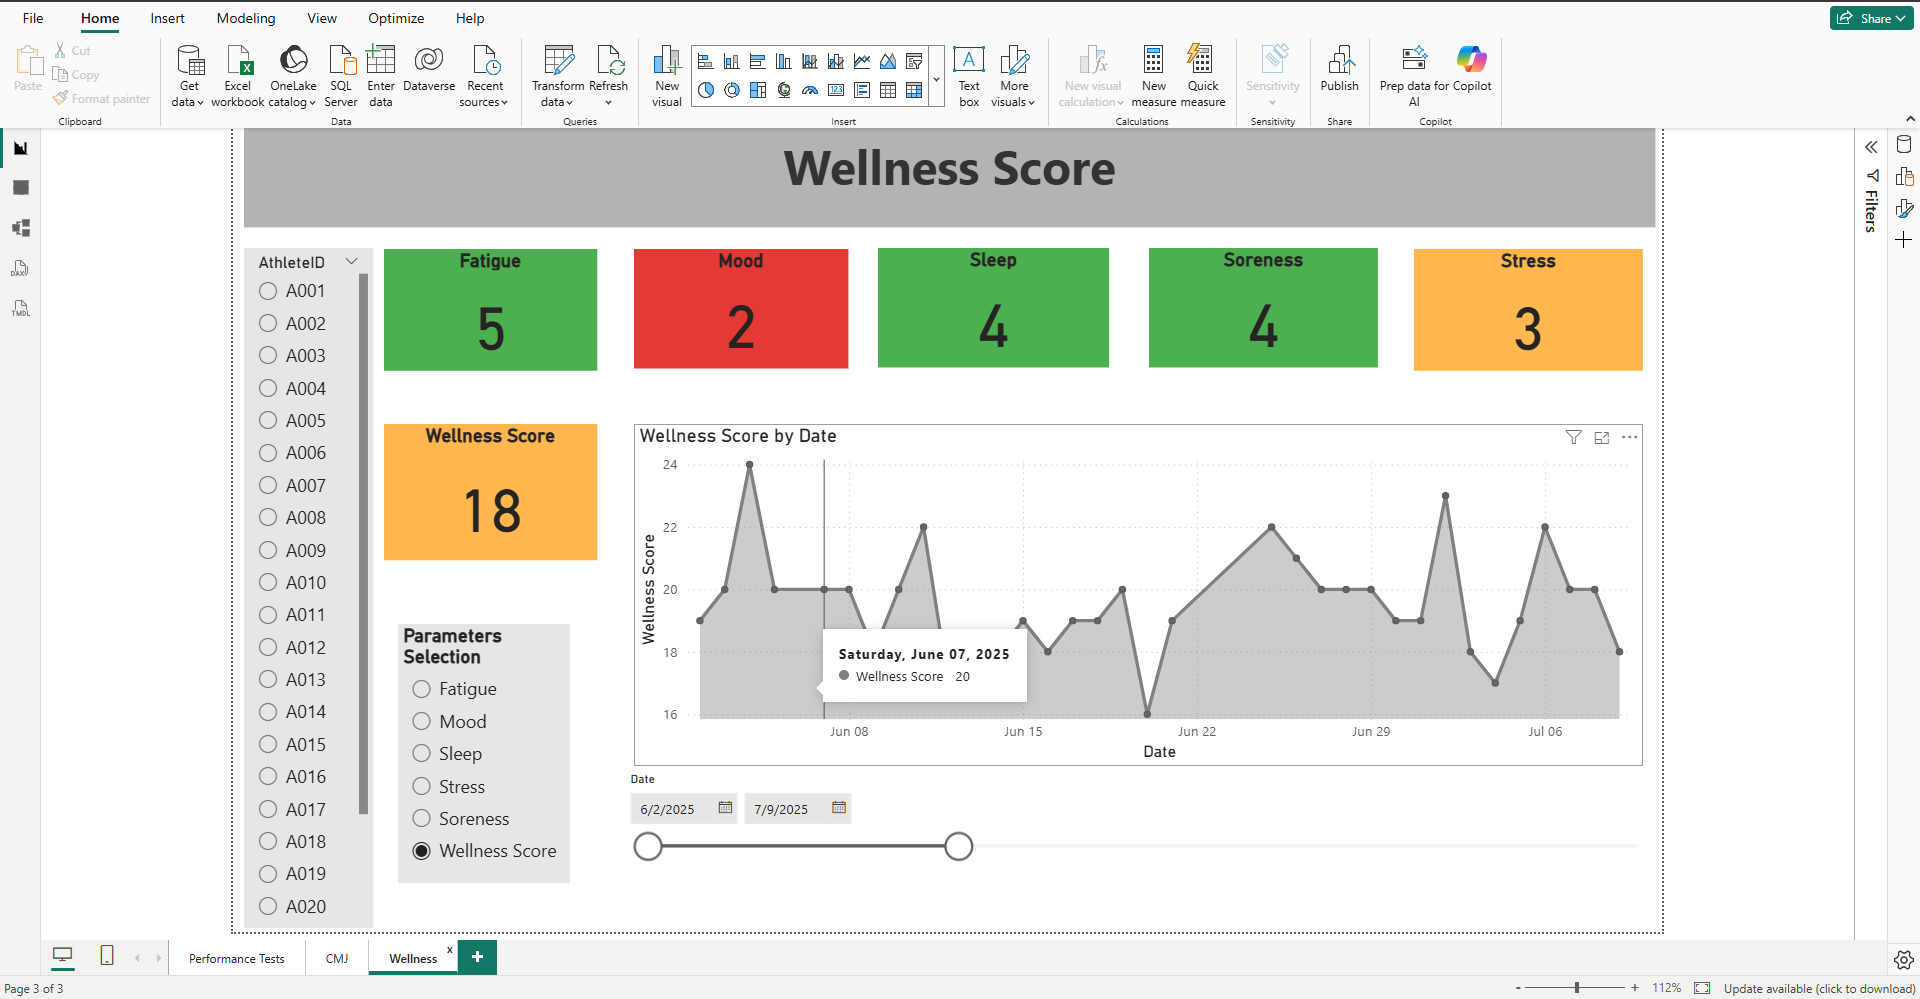

This screenshot's page, from the dashboard's own definition file:
{"tool":"powerbi","page":{"name":"Wellness","canvas":[1280,720],"ordinal":2},"visuals":[{"type":"textbox","box":[9.9,0,1263.6,88.7],"z":0},{"type":"areaChart","fields":{"Y":["Athlete.WellnessTotal Today"],"Category":["Wellness_Daily.Date"]},"box":[359.1,265.1,903.6,306.3],"z":1000},{"type":"slicer","fields":{"Values":["Wellness_Daily.AthleteID"]},"box":[9.9,107.5,115.5,609],"z":2000},{"type":"card","title":"Fatigue","fields":{"Values":["Athlete.Fatigue Today"]},"box":[135.2,108.4,190.7,109.3],"z":3000},{"type":"card","title":"Mood","fields":{"Values":["Athlete.Mood Today"]},"box":[359.1,108.4,191.6,106.6],"z":4000},{"type":"card","title":"Sleep","fields":{"Values":["Athlete.Sleep Today"]},"box":[577.6,107.5,206.9,106.6],"z":5000},{"type":"card","title":"Soreness","fields":{"Values":["Athlete.Soreness Today"]},"box":[820.3,107.5,205.1,106.6],"z":6000},{"type":"slicer","fields":{"Values":["Wellness_Daily.Date"]},"box":[343,571.3,936.7,117.3],"z":7000},{"type":"card","title":"Wellness Score","fields":{"Values":["Athlete.WellnessTotal Today"]},"box":[135.2,265.1,190.7,121.8],"z":8000},{"type":"card","title":"Stress","fields":{"Values":["Athlete.Stress Today"]},"box":[1057.6,108.4,205.1,109.3],"z":9000},{"type":"slicer","title":"Parameters Selection","fields":{"Values":["Parameter 2.Parameter"]},"box":[148.2,444.5,154.2,231.8],"z":10000}]}

Visuals, with their boxes on the page's 1280x720 design canvas (x1, y1, x2, y2). These are canvas units, not pixel positions in the 1920x999 screenshot, which may show the page scaled, cropped or inside an application window:
textbox: {"left": 10, "top": 0, "right": 1274, "bottom": 89}
areaChart - Athlete.WellnessTotal Today x Wellness_Daily.Date: {"left": 359, "top": 265, "right": 1263, "bottom": 571}
slicer - Wellness_Daily.AthleteID: {"left": 10, "top": 108, "right": 125, "bottom": 716}
"Fatigue" card: {"left": 135, "top": 108, "right": 326, "bottom": 218}
"Mood" card: {"left": 359, "top": 108, "right": 551, "bottom": 215}
"Sleep" card: {"left": 578, "top": 108, "right": 784, "bottom": 214}
"Soreness" card: {"left": 820, "top": 108, "right": 1025, "bottom": 214}
slicer - Wellness_Daily.Date: {"left": 343, "top": 571, "right": 1280, "bottom": 689}
"Wellness Score" card: {"left": 135, "top": 265, "right": 326, "bottom": 387}
"Stress" card: {"left": 1058, "top": 108, "right": 1263, "bottom": 218}
"Parameters Selection" slicer: {"left": 148, "top": 444, "right": 302, "bottom": 676}
